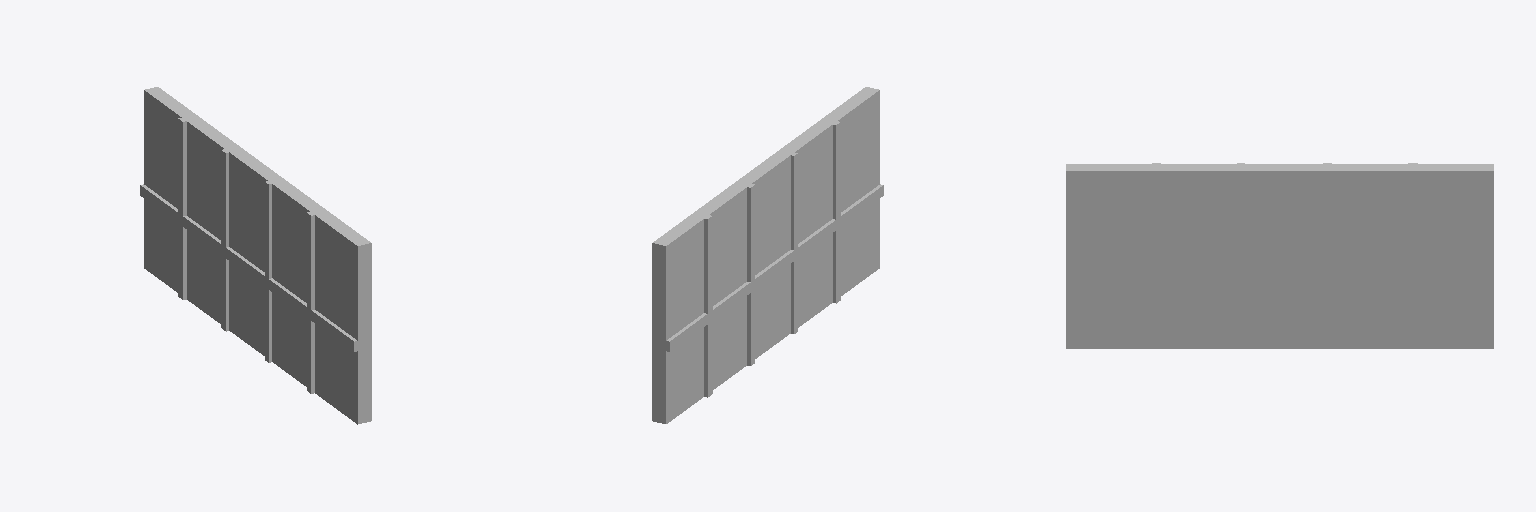
File: sideWallLP.obj
The picture shows the model from 3 angles: view 1: azimuth 30°, elevation 25°; view 2: azimuth 150°, elevation 25°; view 3: azimuth 270°, elevation 25°; orthographic projection.
Parts seen in each view (by area): view 1: sideWallLP:default1; view 2: sideWallLP:default1; view 3: sideWallLP:default1.
Part boxes in pixels (x1,y1,x2,y2): sideWallLP:default1: (140, 87, 371, 424); sideWallLP:default1: (652, 87, 883, 423); sideWallLP:default1: (1066, 163, 1493, 348).
Bounding box in the file's own units: 0.6621 × 6.46 × 14.04.